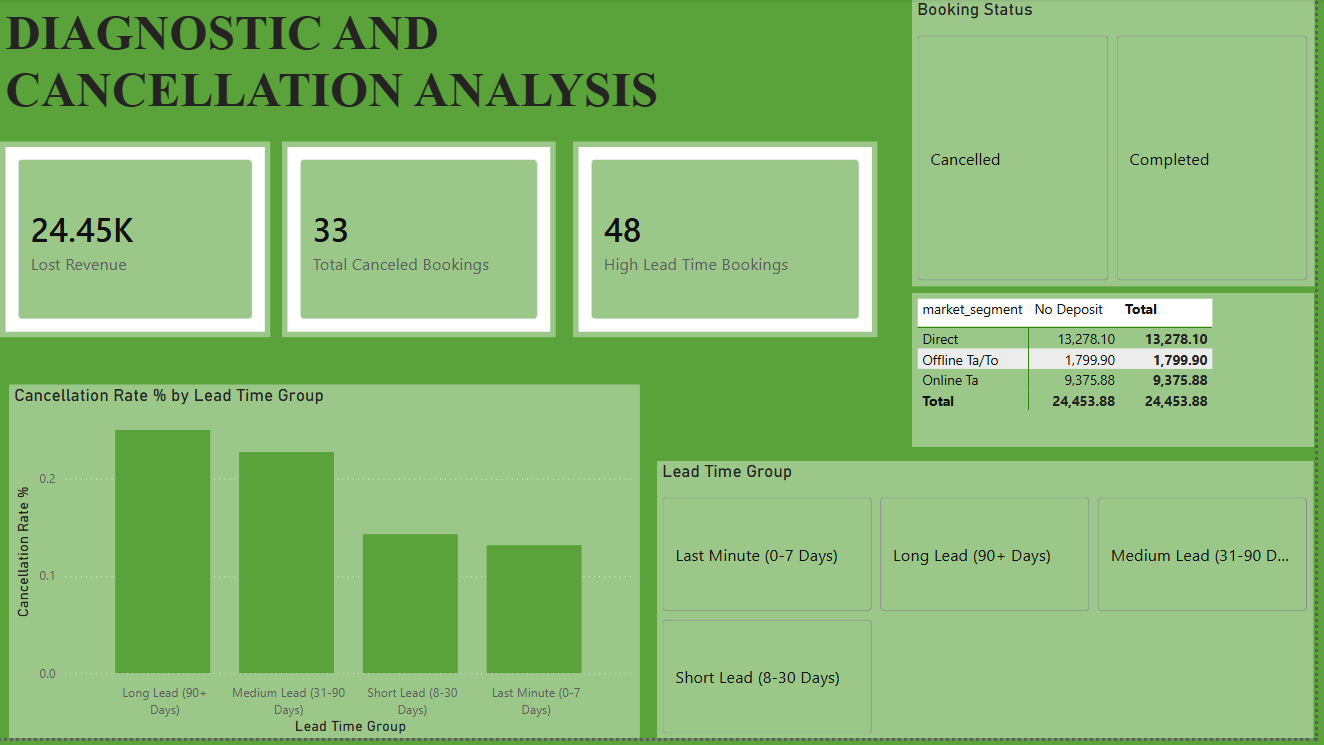

The dashboard page shown, as its layout file describes it:
{"tool":"powerbi","page":{"name":"Diagnostic and Cancellation analysis","canvas":[1280,720],"ordinal":2},"visuals":[{"type":"cardVisual","fields":{"Data":["All_Measures.Lost Revenue"]},"box":[0,139.3,263.5,190.8],"z":0},{"type":"cardVisual","fields":{"Data":["All_Measures.Total Canceled Bookings"]},"box":[274.1,139.3,266.5,190.8],"z":1},{"type":"cardVisual","fields":{"Data":["All_Measures.High Lead Time Bookings"]},"box":[558.7,139.3,296.8,190.8],"z":2},{"type":"clusteredColumnChart","fields":{"Category":["Fact_bookings.Lead Time Group"],"Y":["All_Measures.Cancellation Rate %"]},"box":[9.1,375.5,614.8,345.2],"z":3},{"type":"pivotTable","fields":{"Columns":["Fact_bookings.deposit_type"],"Rows":["Fact_bookings.market_segment"],"Values":["All_Measures.Lost Revenue"]},"box":[888.8,286.2,390.7,149.9],"z":4},{"type":"advancedSlicerVisual","fields":{"Values":["Fact_bookings.Lead Time Group"]},"box":[640.5,449.7,639,271],"z":5},{"type":"advancedSlicerVisual","fields":{"Values":["Fact_bookings.Booking Status"]},"box":[889,0,391,280],"z":6},{"type":"textbox","box":[0,0,790.4,125.7],"z":7}]}

Visuals, with their boxes in screenshot pixels (x1, y1, x2, y2), scaled from the page's 1280x720 canvas onto the 1324x745 screenshot:
cardVisual - All_Measures.Lost Revenue: 0 144 273 342
cardVisual - All_Measures.Total Canceled Bookings: 284 144 559 342
cardVisual - All_Measures.High Lead Time Bookings: 578 144 885 342
clusteredColumnChart - Fact_bookings.Lead Time Group x All_Measures.Cancellation Rate %: 9 389 645 744
pivotTable - Fact_bookings.deposit_type x Fact_bookings.market_segment: 919 296 1323 451
advancedSlicerVisual - Fact_bookings.Lead Time Group: 663 465 1323 744
advancedSlicerVisual - Fact_bookings.Booking Status: 920 0 1323 290
textbox: 0 0 818 130
